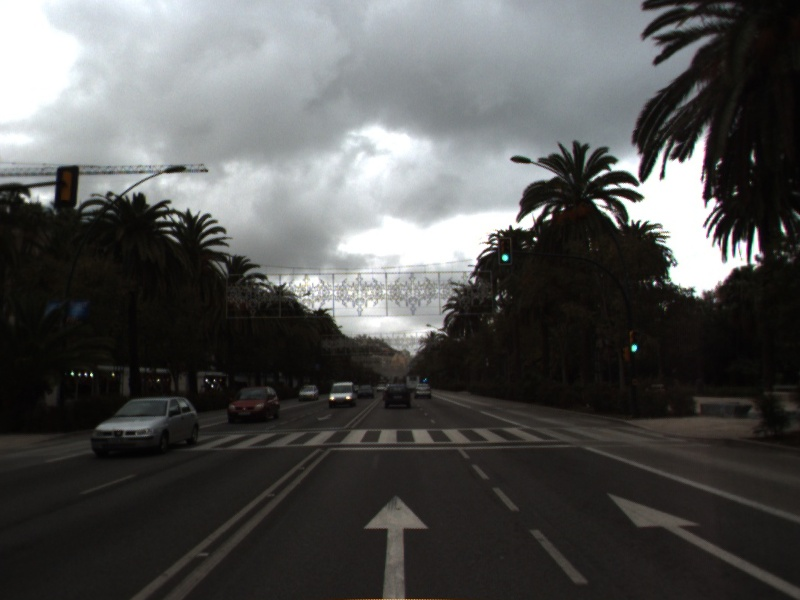STRAIGHT: (602, 487, 800, 598), (360, 491, 433, 600)
